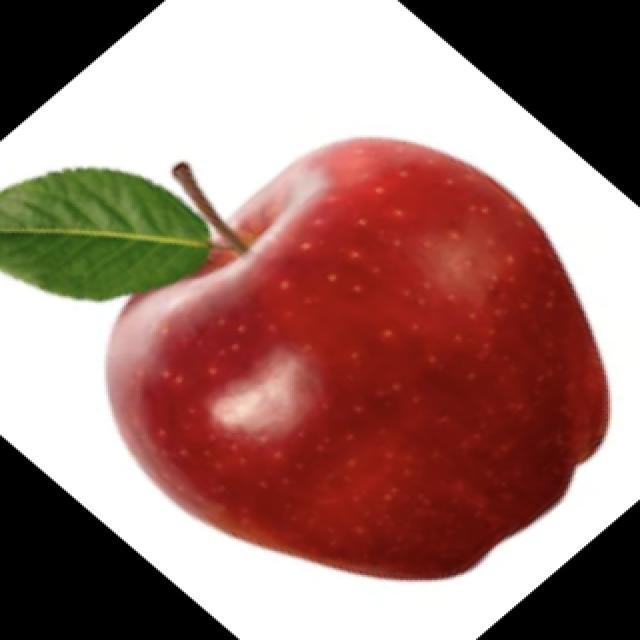Fresh Apple: (115, 125, 602, 594)
